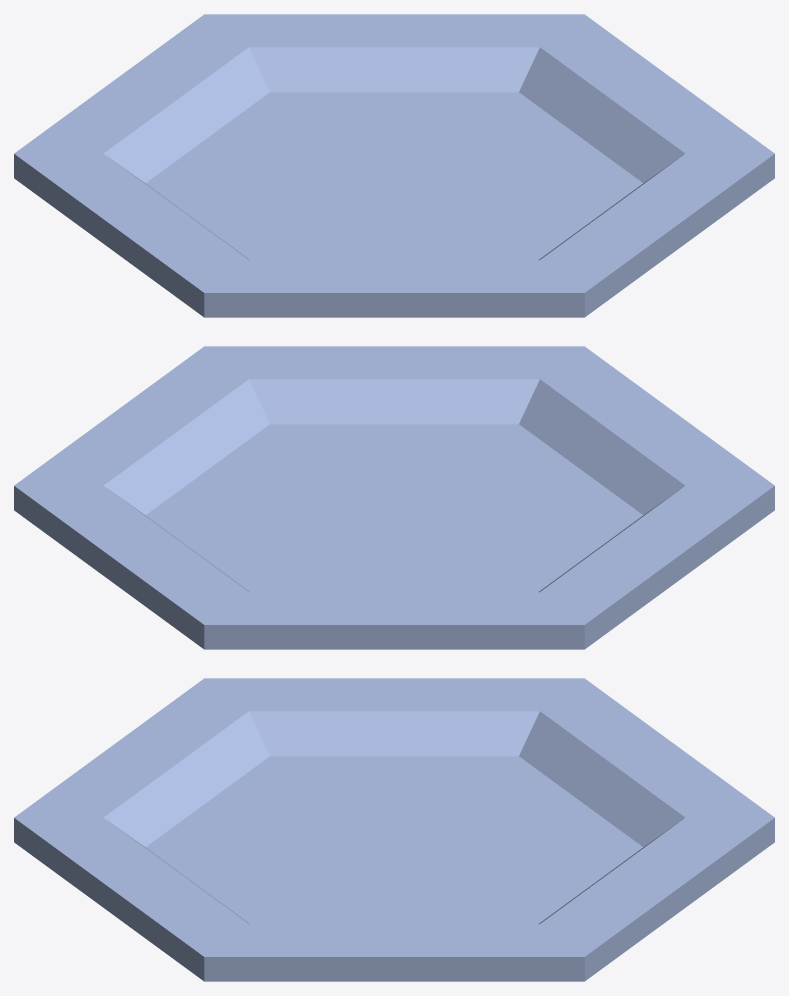
File: EmptyPlate.fbx
3 renders of one model, top to bottom at view 1: azimuth 30°, elevation 25°; view 2: azimuth 150°, elevation 25°; view 3: azimuth 270°, elevation 25°, orthographic.
Parts seen in each view (by area): view 1: Plate.002; view 2: Plate.002; view 3: Plate.002.
Part boxes in pixels (left/top/right/bottom): Plate.002: left=14, top=14, right=774, bottom=317; Plate.002: left=14, top=346, right=774, bottom=649; Plate.002: left=14, top=678, right=774, bottom=981.
Size of the model in its own units: 48.5 by 3.62 by 56.
